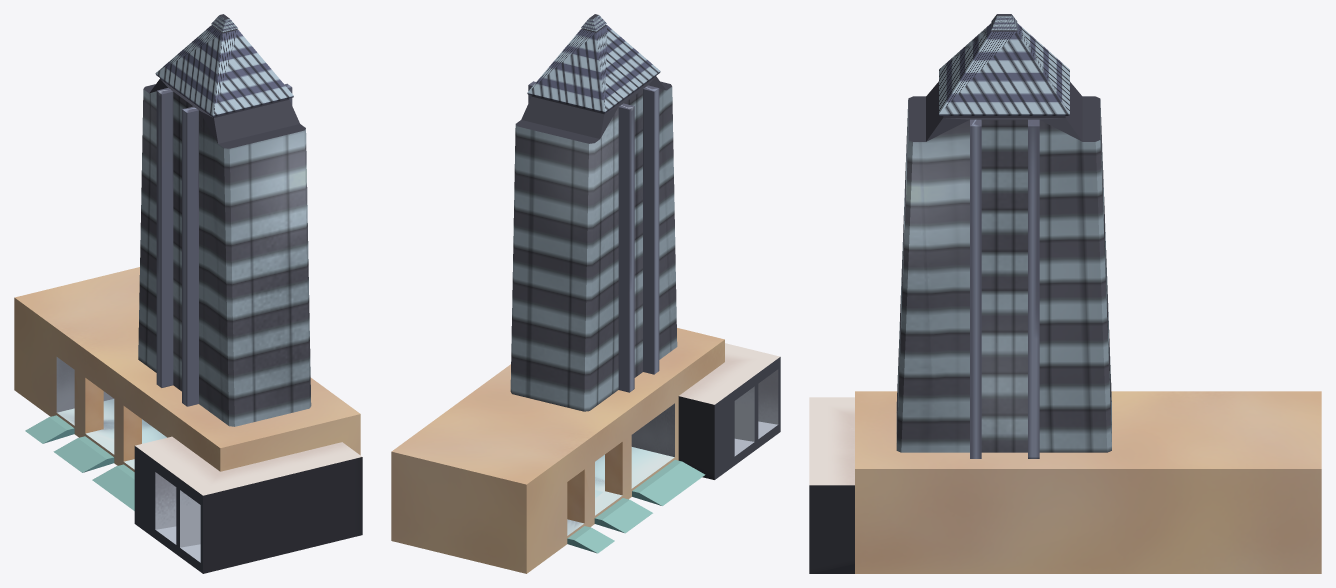
The model's file is monster Dungeon2.fbx.
3 views of the same model, side by side, from view 1: azimuth 30°, elevation 25°; view 2: azimuth 150°, elevation 25°; view 3: azimuth 270°, elevation 25° (orthographic). The views are drawn at different scales.
Visible parts, largest first — view 1: Box002; view 2: Box002; view 3: Box002.
Boxes of the visible parts, x1,y1,x2,y2 form: Box002: (14, 14, 362, 573); Box002: (391, 14, 780, 573); Box002: (809, 14, 1321, 573).
Size of the model in its own units: 200 by 502 by 440.
1 material, 1 textured.
